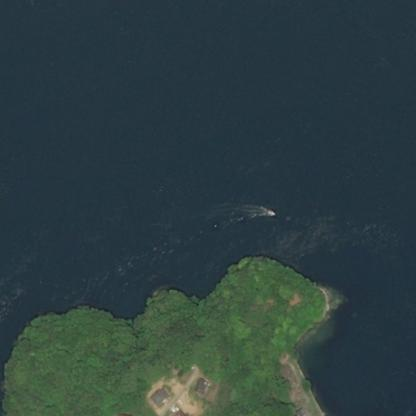ship: (270, 210, 275, 216)
